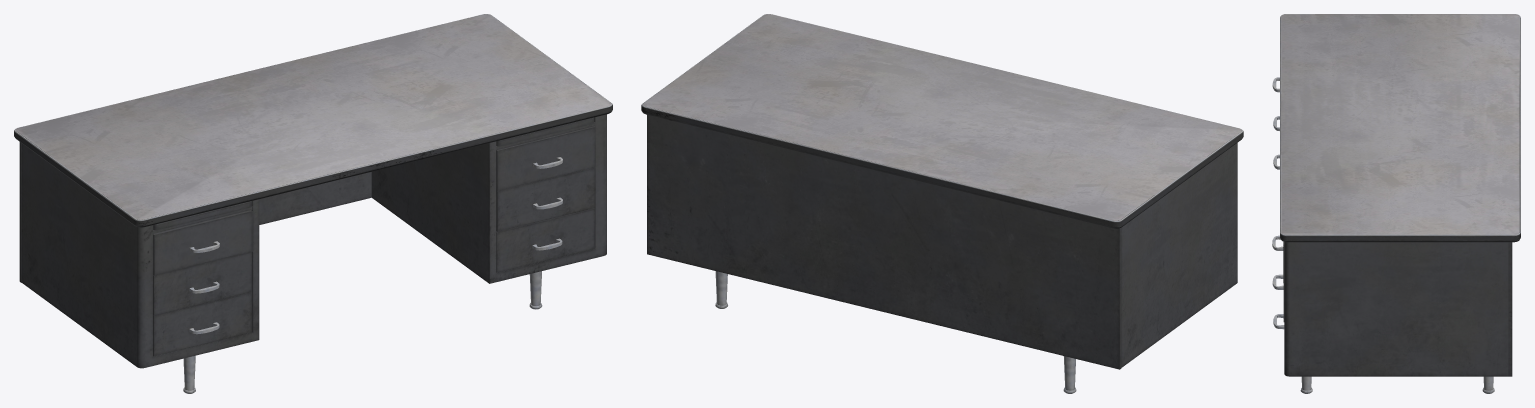
3 renders of one model, left to right at view 1: azimuth 30°, elevation 25°; view 2: azimuth 150°, elevation 25°; view 3: azimuth 270°, elevation 25°, orthographic. The views are drawn at different scales.
Parts seen in each view (by area): view 1: metal_office_desk, metal_office_desk_drawer_04, metal_office_desk_drawer_01, metal_office_desk_drawer_02, metal_office_desk_drawer_03, metal_office_desk_drawer_06, metal_office_desk_drawer_05, metal_office_desk_tray_01, metal_office_desk_tray_02; view 2: metal_office_desk; view 3: metal_office_desk.
Part boxes in pixels (x1=…): metal_office_desk: x1=14, y1=14, x2=612, y2=393; metal_office_desk_drawer_04: x1=153, y1=210, x2=252, y2=275; metal_office_desk_drawer_01: x1=496, y1=126, x2=595, y2=191; metal_office_desk_drawer_02: x1=496, y1=167, x2=595, y2=231; metal_office_desk_drawer_03: x1=496, y1=208, x2=594, y2=272; metal_office_desk_drawer_06: x1=153, y1=292, x2=251, y2=356; metal_office_desk_drawer_05: x1=153, y1=252, x2=251, y2=315; metal_office_desk_tray_01: x1=153, y1=201, x2=251, y2=230; metal_office_desk_tray_02: x1=496, y1=117, x2=594, y2=146; metal_office_desk: x1=641, y1=14, x2=1243, y2=393; metal_office_desk: x1=1280, y1=14, x2=1520, y2=393.
Size of the model in its own units: 2 by 0.7875 by 0.9472.
1 material, 1 textured.
